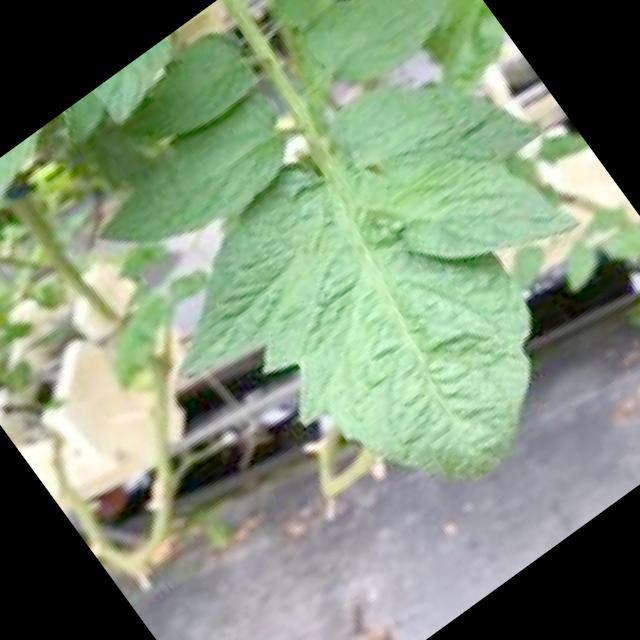Tomato healthy leaf: (98, 0, 577, 493)
